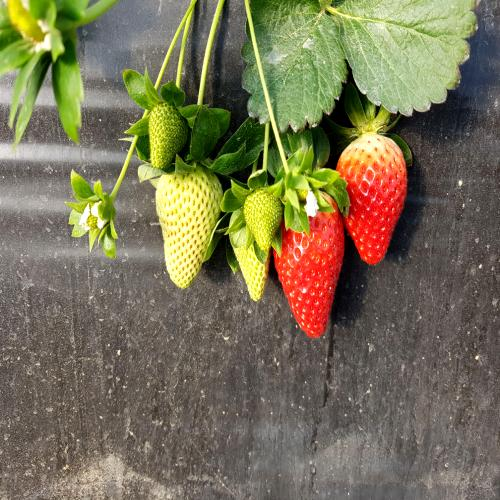ripe: (267, 164, 348, 345), (335, 125, 412, 278)
